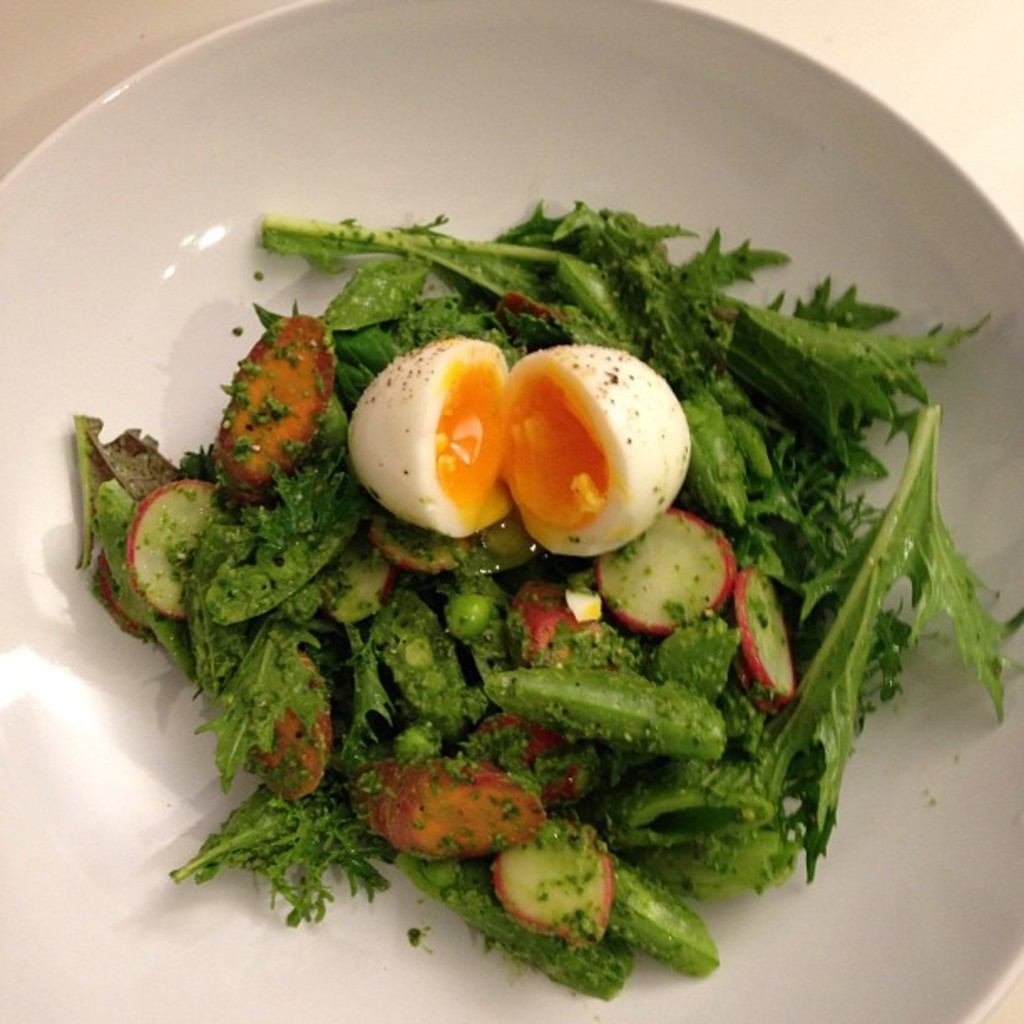salad: (60, 147, 1001, 992)
